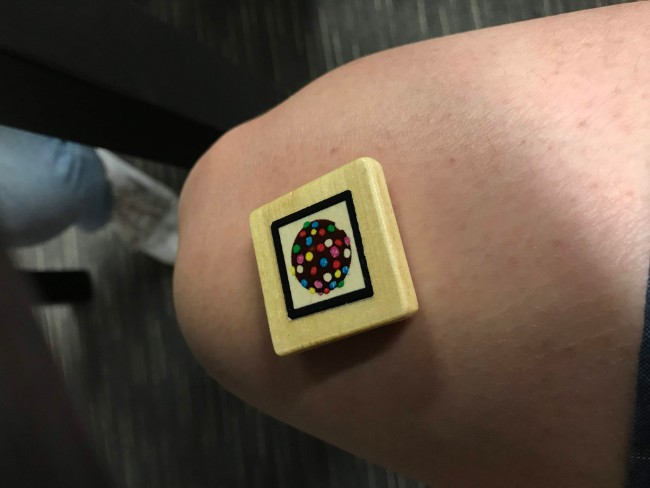cookie: (268, 188, 390, 325)
